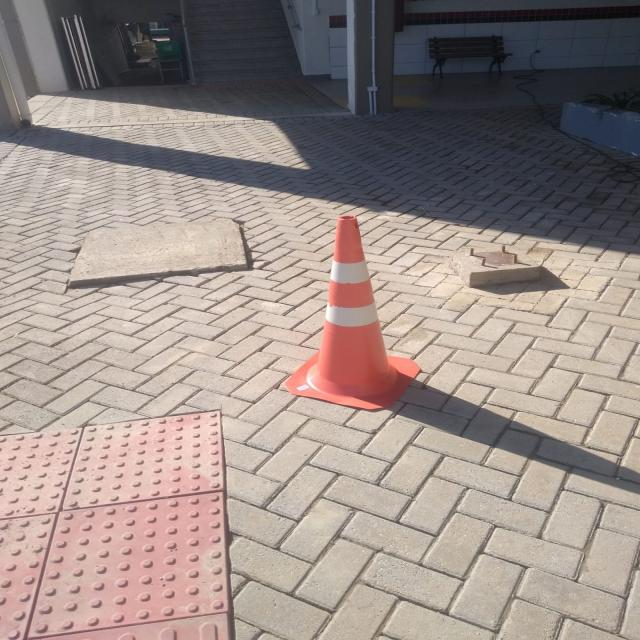cone: (272, 196, 436, 411)
